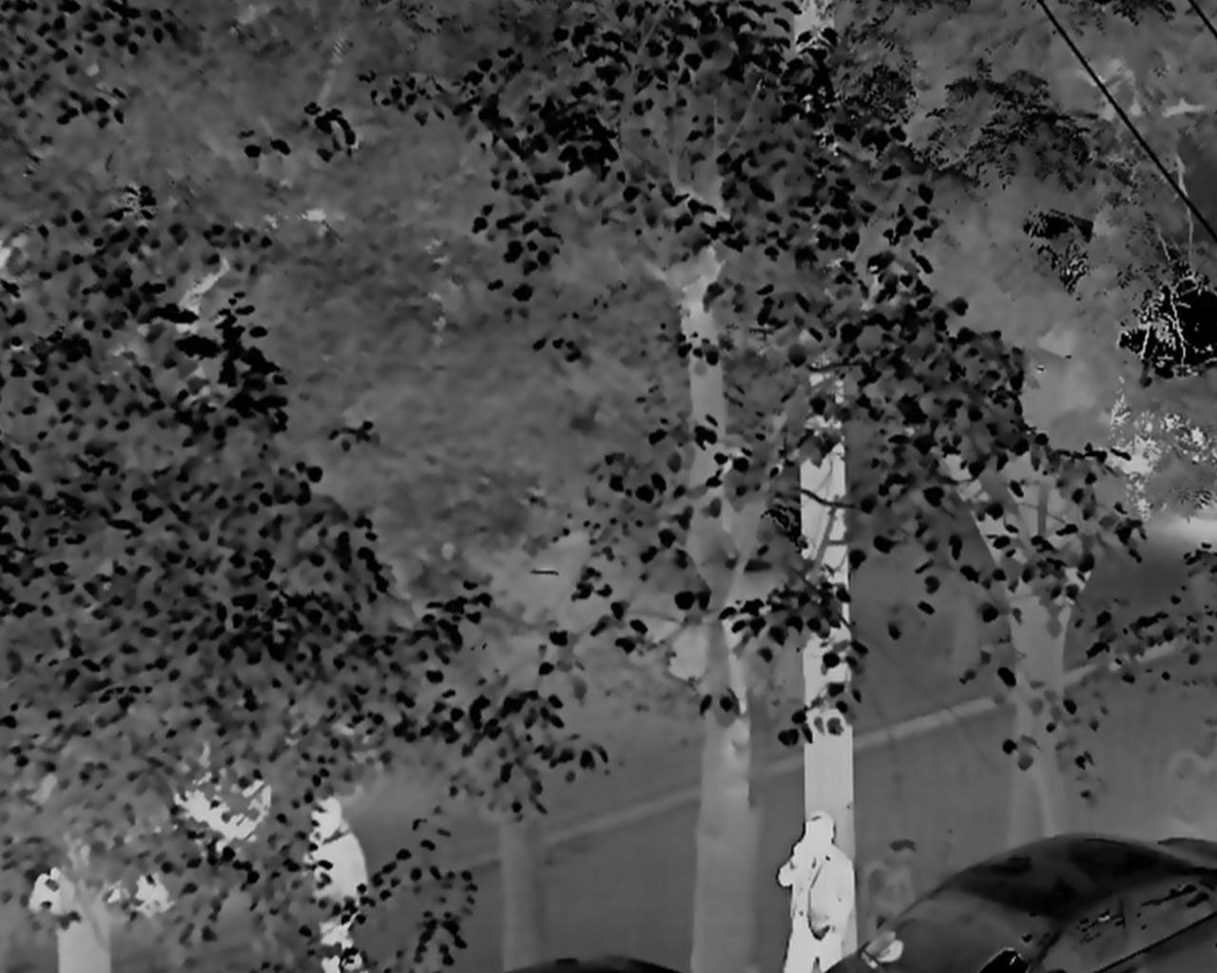person: (778, 807, 858, 973), (302, 794, 364, 973)
